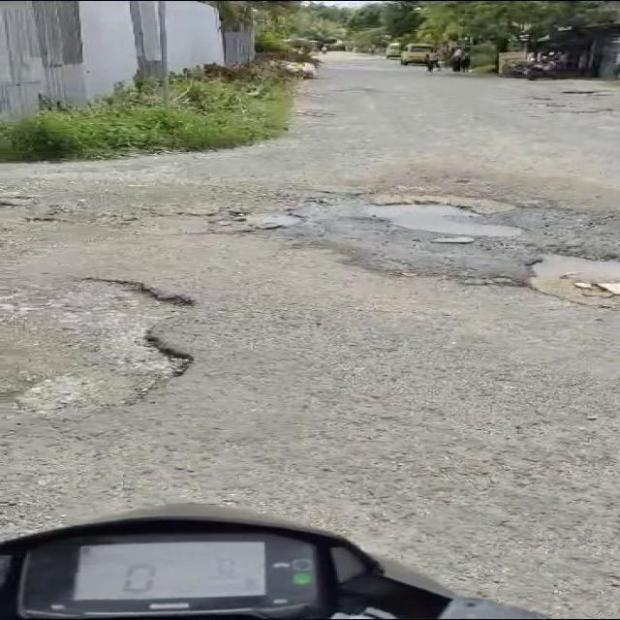lubang: (1, 279, 192, 448), (0, 191, 304, 247), (317, 193, 527, 243), (528, 255, 619, 308)
